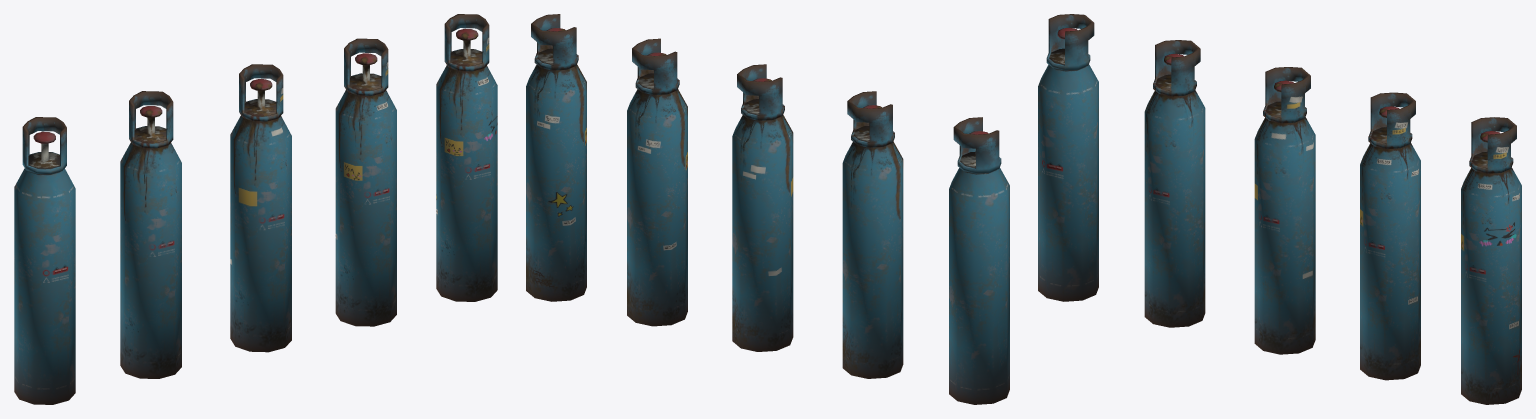
Rendered from oxygen_gas_tank_optimized.glb.
The picture shows the model from 3 angles, left to right: view 1: azimuth 30°, elevation 25°; view 2: azimuth 150°, elevation 25°; view 3: azimuth 330°, elevation 25°; orthographic projection.
Parts seen in each view (by area): view 1: oxygen_tank_05_oxygen_tank_02_0_4, oxygen_tank_04_oxygen_tank_02_0_12, oxygen_tank_03_oxygen_tank_01_0_6, oxygen_tank_02_oxygen_tank_01_0_10, oxygen_tank_01_oxygen_tank_01_0_8; view 2: oxygen_tank_03_oxygen_tank_01_0_6, oxygen_tank_02_oxygen_tank_01_0_10, oxygen_tank_01_oxygen_tank_01_0_8, oxygen_tank_05_oxygen_tank_02_0_4, oxygen_tank_04_oxygen_tank_02_0_12; view 3: oxygen_tank_02_oxygen_tank_01_0_10, oxygen_tank_03_oxygen_tank_01_0_6, oxygen_tank_01_oxygen_tank_01_0_8, oxygen_tank_04_oxygen_tank_02_0_12, oxygen_tank_05_oxygen_tank_02_0_4.
Part boxes in pixels (box(x1,y1,x2,y2)): oxygen_tank_05_oxygen_tank_02_0_4: box(436, 14, 497, 301); oxygen_tank_04_oxygen_tank_02_0_12: box(335, 38, 396, 326); oxygen_tank_03_oxygen_tank_01_0_6: box(230, 64, 291, 352); oxygen_tank_02_oxygen_tank_01_0_10: box(120, 91, 181, 378); oxygen_tank_01_oxygen_tank_01_0_8: box(14, 117, 75, 404); oxygen_tank_03_oxygen_tank_01_0_6: box(732, 64, 793, 351); oxygen_tank_02_oxygen_tank_01_0_10: box(842, 91, 903, 378); oxygen_tank_01_oxygen_tank_01_0_8: box(949, 117, 1009, 404); oxygen_tank_05_oxygen_tank_02_0_4: box(526, 14, 586, 301); oxygen_tank_04_oxygen_tank_02_0_12: box(627, 38, 687, 326); oxygen_tank_02_oxygen_tank_01_0_10: box(1144, 40, 1205, 327); oxygen_tank_03_oxygen_tank_01_0_6: box(1254, 67, 1315, 354); oxygen_tank_01_oxygen_tank_01_0_8: box(1038, 14, 1098, 301); oxygen_tank_04_oxygen_tank_02_0_12: box(1360, 92, 1420, 380); oxygen_tank_05_oxygen_tank_02_0_4: box(1461, 117, 1521, 404).
Bounding box in the file's own units: 2.73 × 1.46 × 0.2961.
2 materials, 2 textured.
